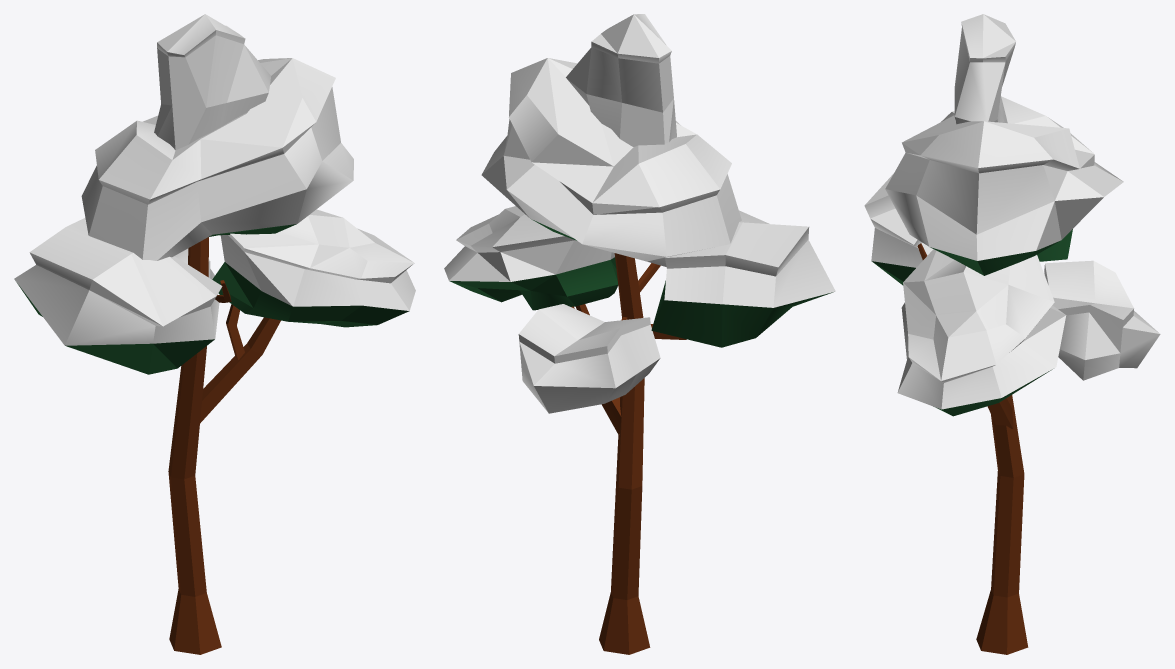
The model's file is Winter_006.fbx.
3 renders of one model, left to right at view 1: azimuth 30°, elevation 25°; view 2: azimuth 150°, elevation 25°; view 3: azimuth 270°, elevation 25°, orthographic. The views are drawn at different scales.
Visible parts, largest first — view 1: Winter_006; view 2: Winter_006; view 3: Winter_006.
Part boxes in pixels (left/top/right/bottom): Winter_006: left=14, top=14, right=415, bottom=654; Winter_006: left=444, top=14, right=835, bottom=654; Winter_006: left=864, top=14, right=1160, bottom=654.
Size of the model in its own units: 3.46 by 5.8 by 2.47.
